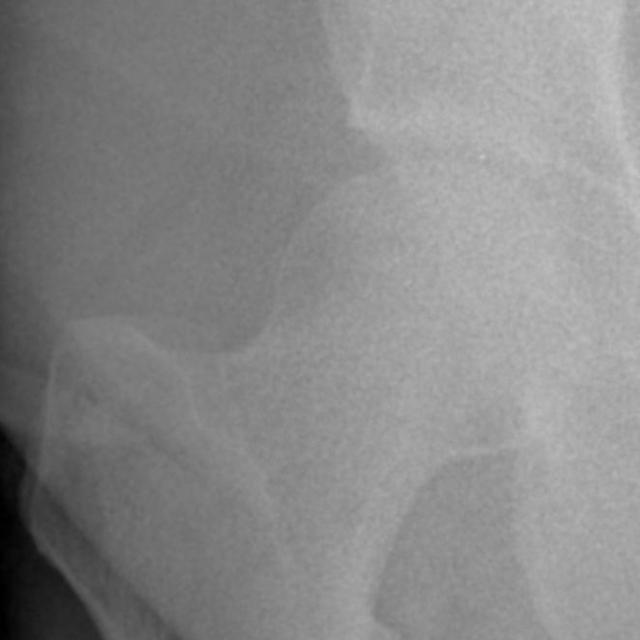Fitted_femural_head: (320, 159, 432, 320)
